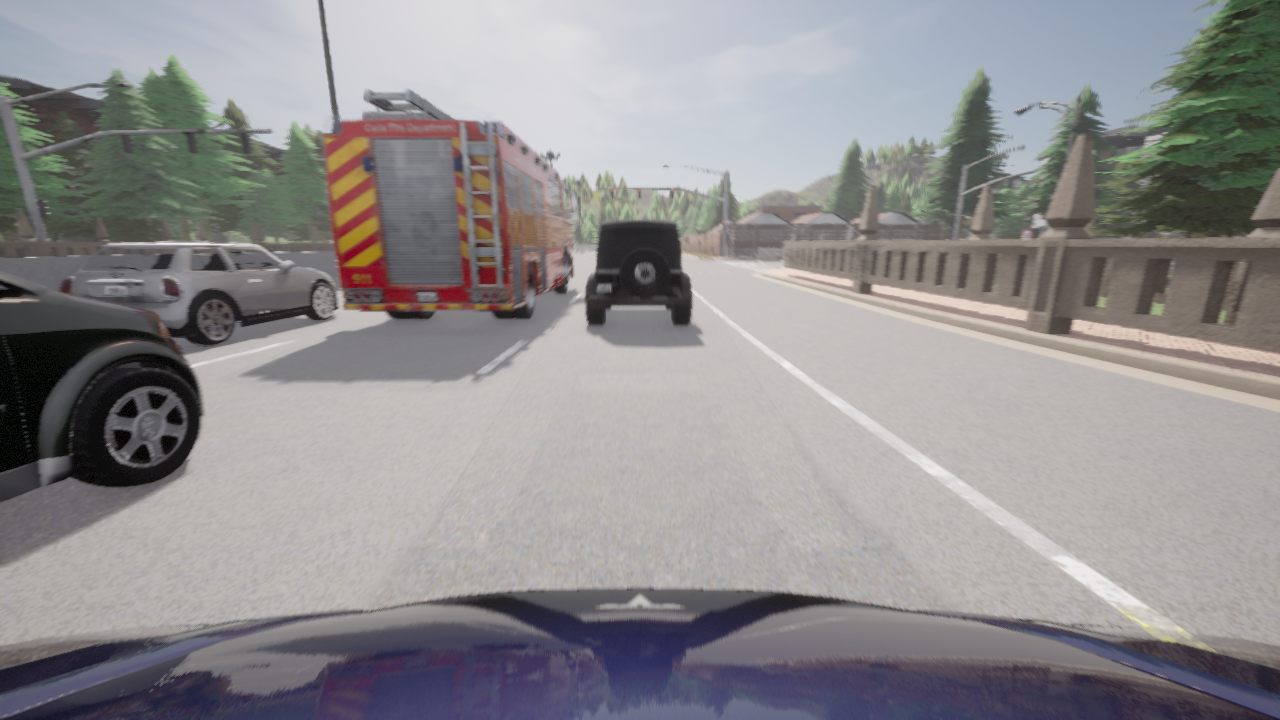cyclist: (0, 588, 1279, 719), (322, 90, 579, 319), (59, 242, 339, 345), (585, 219, 691, 324)
